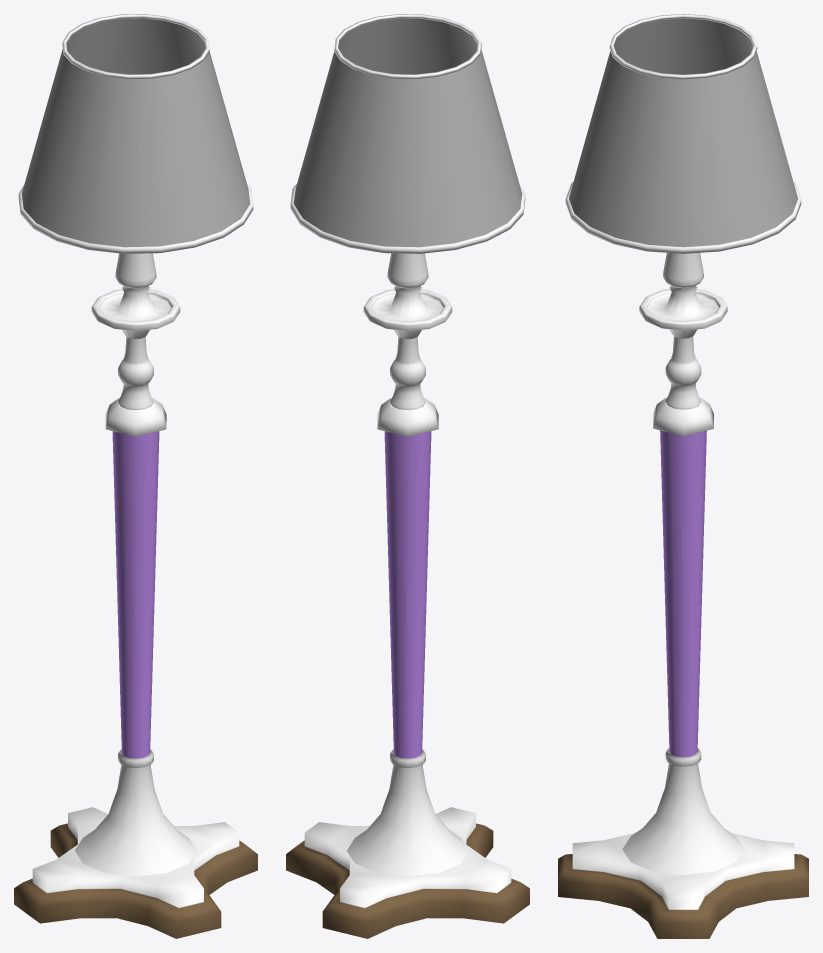
File: lamp2.glb
3 renders of one model, left to right at view 1: azimuth 30°, elevation 25°; view 2: azimuth 150°, elevation 25°; view 3: azimuth 270°, elevation 25°, orthographic.
Parts seen in each view (by area): view 1: Object_2; view 2: Object_2; view 3: Object_2.
Boxes of the visible parts, x1,y1,x2,y2 form: Object_2: (14, 14, 257, 938); Object_2: (286, 14, 529, 938); Object_2: (558, 14, 808, 938).
Size of the model in its own units: 8.65 by 31.97 by 8.65.
Materials: 1 (1 with a texture image).
